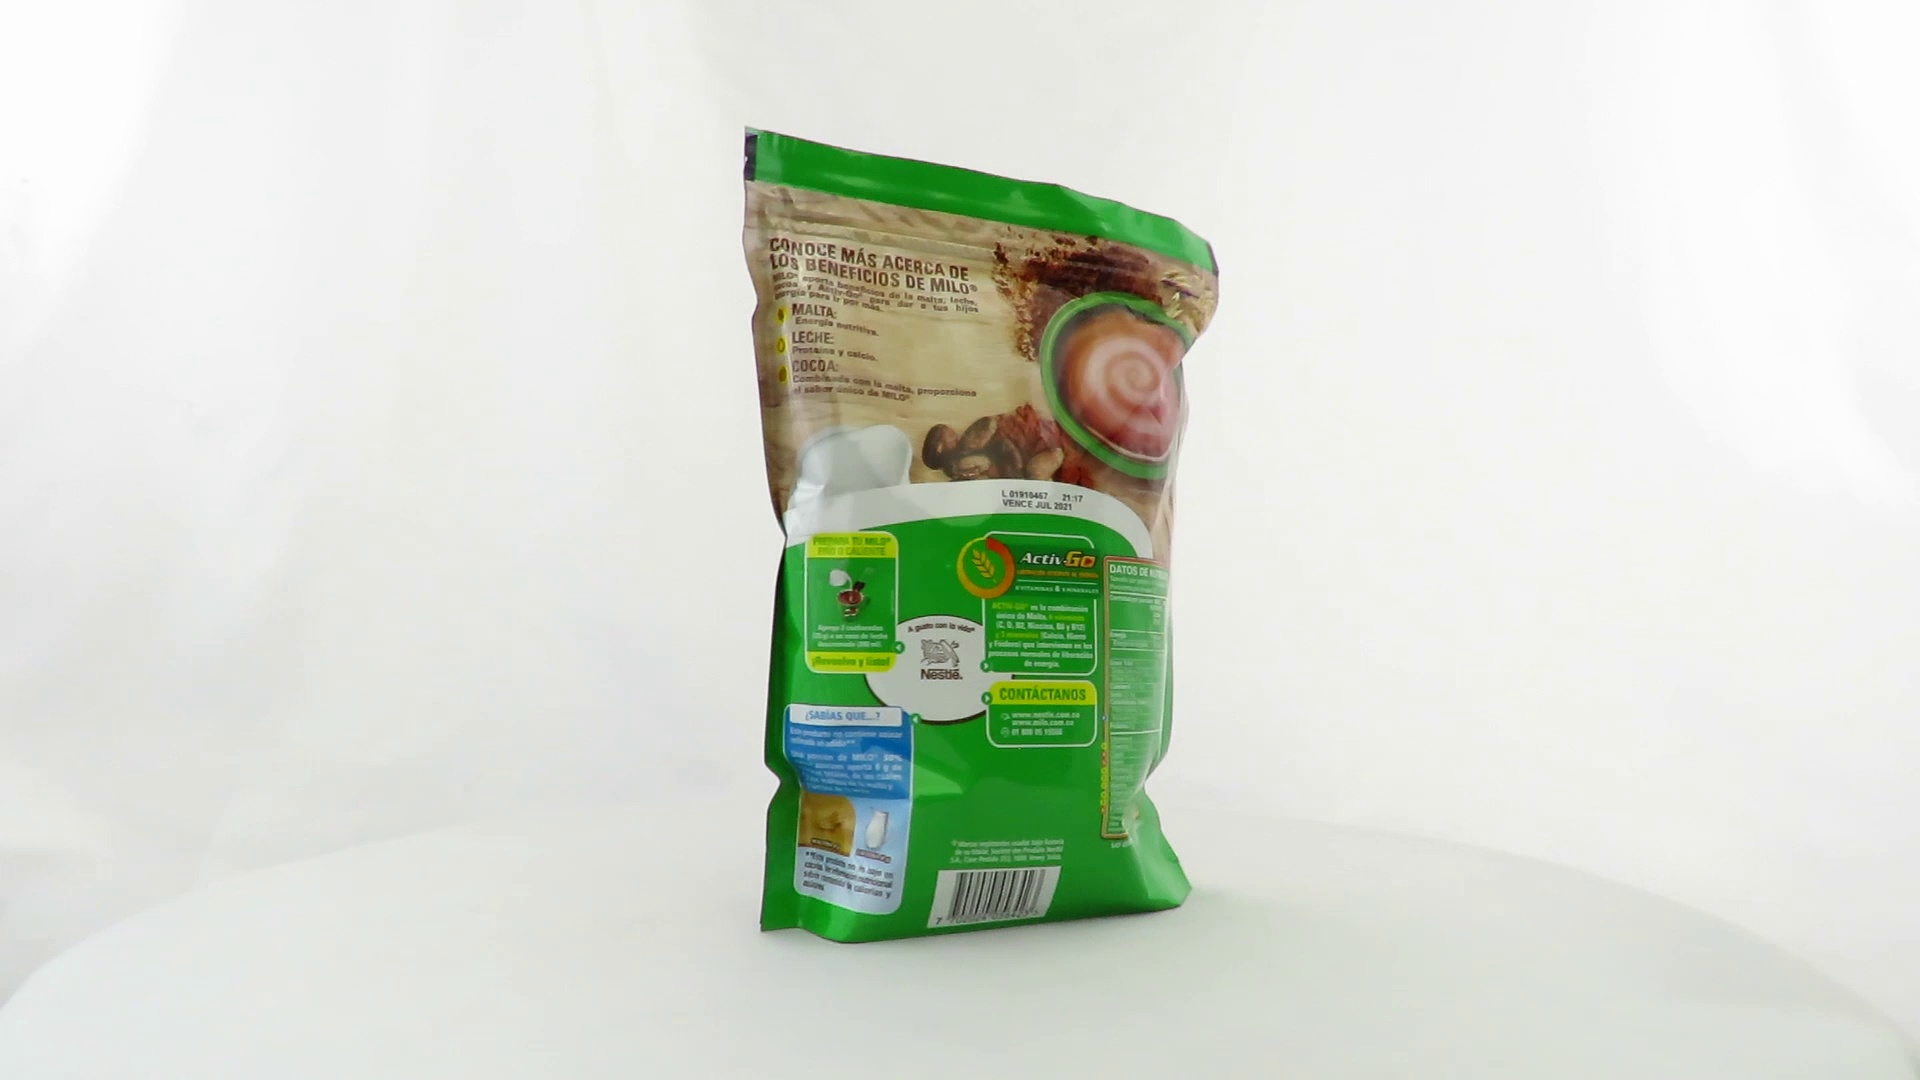COL0170205DYP50000: (737, 121, 1225, 949)
